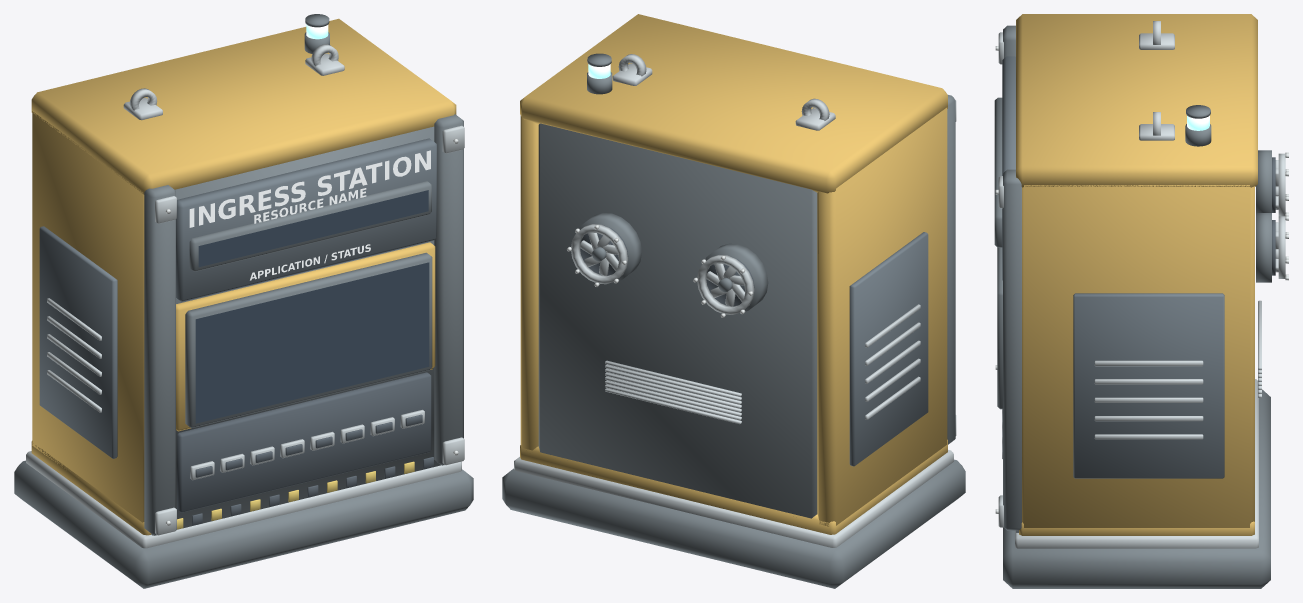
File: ingress_station_standard.glb
3 renders of one model, left to right at view 1: azimuth 30°, elevation 25°; view 2: azimuth 150°, elevation 25°; view 3: azimuth 270°, elevation 25°, orthographic. The views are drawn at different scales.
Visible parts, largest first — view 1: Roof_gold, LiveViewSurface_glass, SideWall_gold, CornerPost_frame, Skid_frame, PatchPanel_black, FrontHeader_graphite, SideServicePanel_graphite, SealFront_frame, SkidDeck_steel, LiveViewSurfaceFrame_frame, ResourceNameSurface_glass (+13 smaller); view 2: BackWall_frame, Roof_gold, SideWall_gold, Skid_frame, SideServicePanel_graphite, SkidDeck_steel, KickPlate_gold, RearFan_steel, RearVent_steel, CornerPost_frame, RearFan_frame, SideLouver_steel (+3 smaller); view 3: SideWall_gold, Roof_gold, SideServicePanel_graphite, Skid_frame, CornerPost_frame, SkidDeck_steel, SideLouver_steel, RearFan_frame, KickPlate_gold, FrontHeader_graphite, RearFan_steel, ResourceNameSurfaceFrame_frame (+6 smaller).
Boxes of the visible parts, x1,y1,x2,y2 form: Roof_gold: [31, 18, 456, 194]; LiveViewSurface_glass: [195, 262, 429, 423]; SideWall_gold: [32, 111, 144, 522]; CornerPost_frame: [144, 114, 463, 535]; Skid_frame: [14, 460, 473, 588]; PatchPanel_black: [177, 372, 431, 512]; FrontHeader_graphite: [176, 138, 436, 301]; SideServicePanel_graphite: [39, 226, 117, 458]; SealFront_frame: [151, 126, 440, 535]; SkidDeck_steel: [26, 451, 461, 548]; LiveViewSurfaceFrame_frame: [185, 252, 432, 428]; ResourceNameSurface_glass: [198, 190, 428, 267]; BackWall_frame: [538, 123, 817, 518]; Roof_gold: [520, 14, 947, 193]; SideWall_gold: [520, 107, 947, 526]; Skid_frame: [502, 459, 965, 588]; SideServicePanel_graphite: [849, 232, 928, 466]; SkidDeck_steel: [514, 450, 953, 547]; KickPlate_gold: [520, 439, 947, 534]; RearFan_steel: [571, 224, 754, 314]; RearVent_steel: [605, 360, 741, 424]; CornerPost_frame: [947, 95, 955, 444]; RearFan_frame: [579, 213, 768, 313]; SideLouver_steel: [865, 304, 920, 419]; SideWall_gold: [1022, 185, 1254, 527]; Roof_gold: [1016, 14, 1257, 187]; SideServicePanel_graphite: [1073, 293, 1224, 478]; Skid_frame: [1003, 389, 1270, 588]; CornerPost_frame: [1003, 25, 1021, 530]; SkidDeck_steel: [1015, 379, 1258, 548]; SideLouver_steel: [1094, 360, 1203, 439]; RearFan_frame: [1256, 150, 1271, 282]; KickPlate_gold: [1019, 521, 1254, 535]; FrontHeader_graphite: [1002, 56, 1015, 280]; RearFan_steel: [1275, 153, 1285, 278]; ResourceNameSurfaceFrame_frame: [994, 97, 1002, 247].
Size of the model in its own units: 2 by 2.48 by 1.47.
